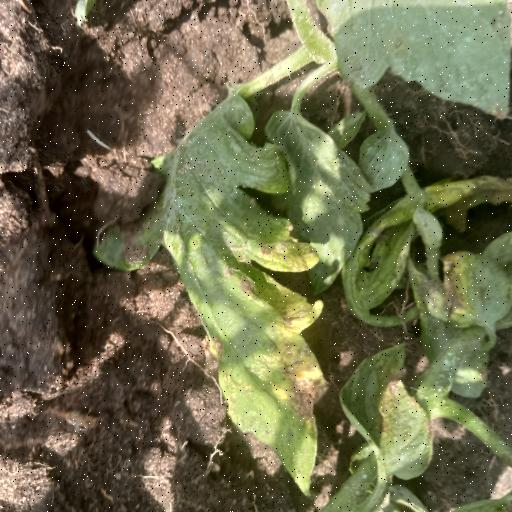Tomato_Brown_Spots: (90, 89, 334, 502)
